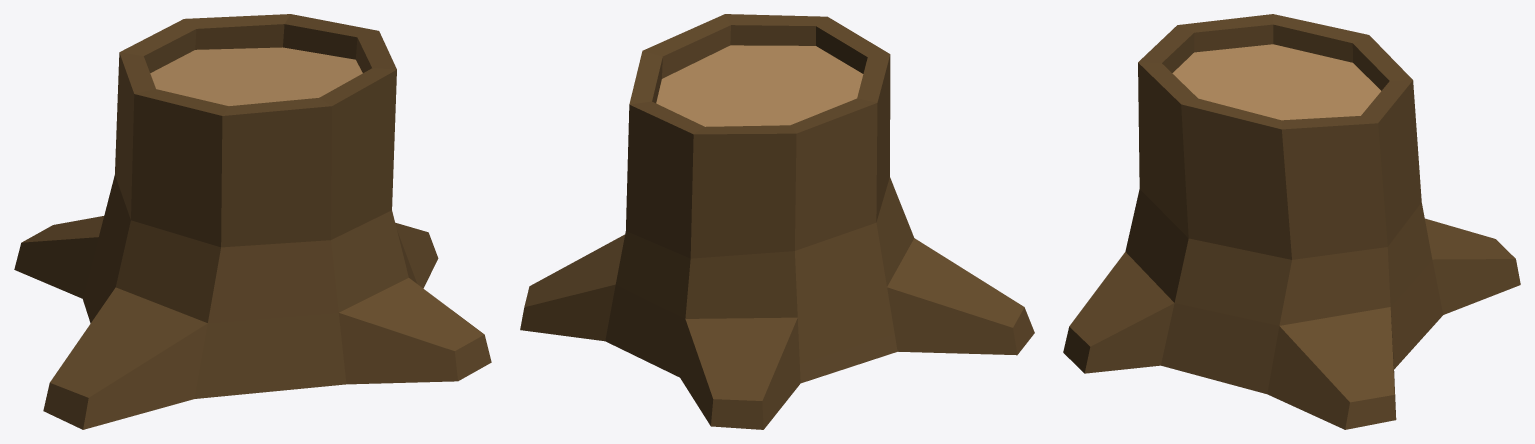
File: Stump_03.fbx
The picture shows the model from 3 angles, left to right: view 1: azimuth 30°, elevation 25°; view 2: azimuth 150°, elevation 25°; view 3: azimuth 270°, elevation 25°; orthographic projection. The views are drawn at different scales.
Visible parts, largest first — view 1: Stump_03; view 2: Stump_03; view 3: Stump_03.
Boxes of the visible parts, left/top/right/bottom form: Stump_03: left=14, top=14, right=491, bottom=429; Stump_03: left=520, top=14, right=1034, bottom=429; Stump_03: left=1063, top=14, right=1520, bottom=429.
Size of the model in its own units: 72.72 by 42.83 by 66.22.
